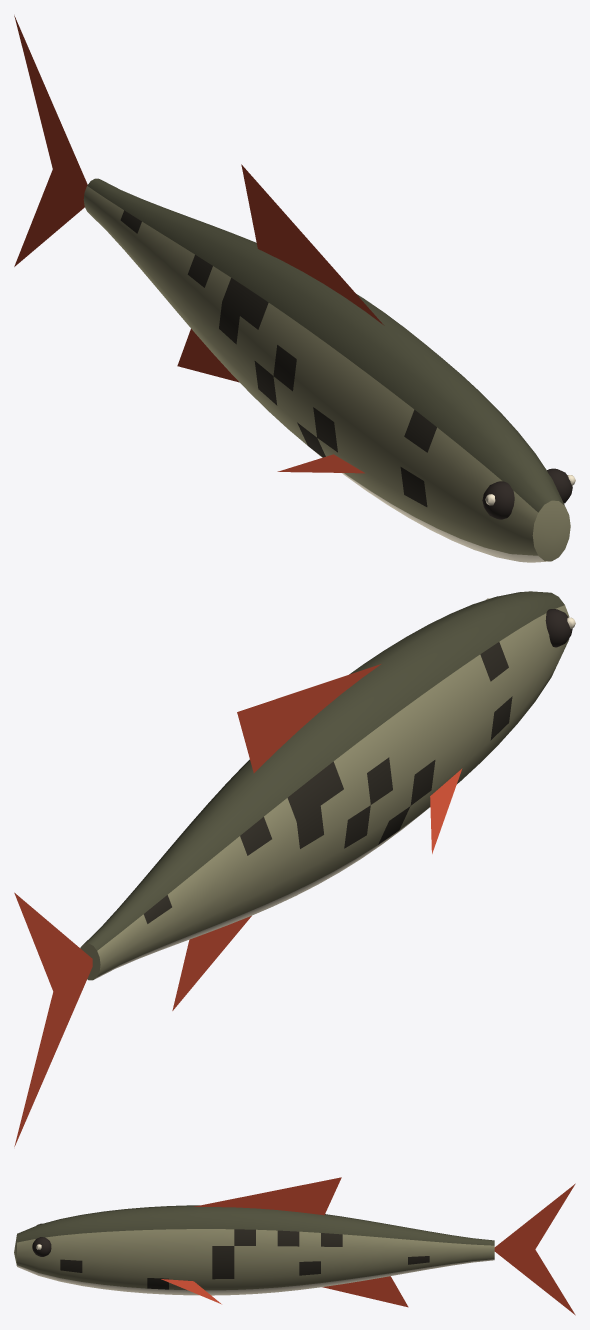
File: taimen.fbx
3 views of the same model, one above another, from view 1: azimuth 30°, elevation 25°; view 2: azimuth 150°, elevation 25°; view 3: azimuth 270°, elevation 25° (orthographic). The views are drawn at different scales.
Visible parts, largest first — view 1: Fish_taimen_EXP; view 2: Fish_taimen_EXP; view 3: Fish_taimen_EXP.
Boxes of the visible parts, x1=… form: Fish_taimen_EXP: x1=14, y1=15, x2=575, y2=562; Fish_taimen_EXP: x1=14, y1=591, x2=575, y2=1146; Fish_taimen_EXP: x1=14, y1=1177, x2=575, y2=1315.
Size of the model in its own units: 0.1784 by 0.2897 by 1.06.
